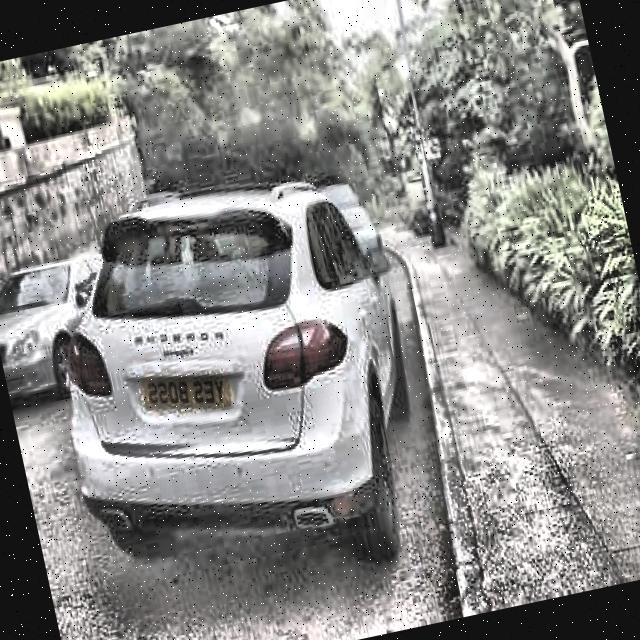license_plate: (138, 356, 235, 424)
